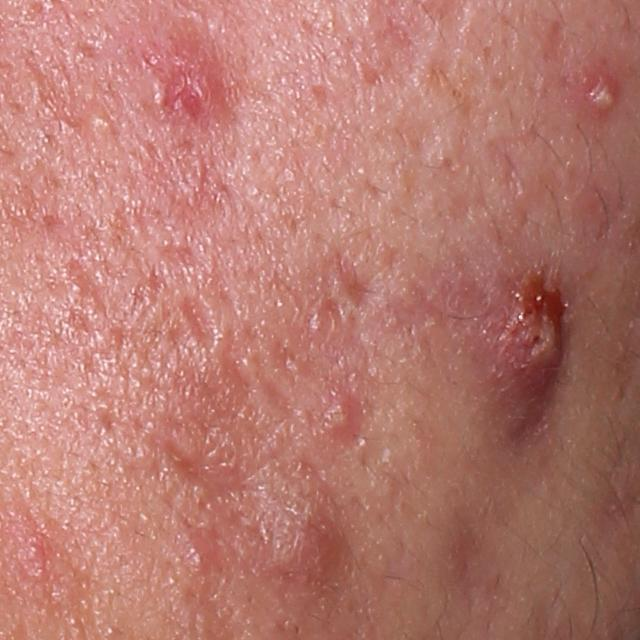atrophic_scar: (217, 285, 293, 415), (431, 497, 499, 607), (23, 53, 79, 130), (160, 434, 215, 489), (66, 255, 111, 316), (336, 254, 380, 306), (183, 295, 215, 352), (322, 296, 349, 325)
comedo: (86, 110, 120, 136)
nodule: (432, 238, 598, 457)
papule: (269, 491, 349, 590), (164, 54, 230, 124), (324, 389, 369, 447), (182, 538, 217, 575)
pustule: (575, 66, 621, 123)
